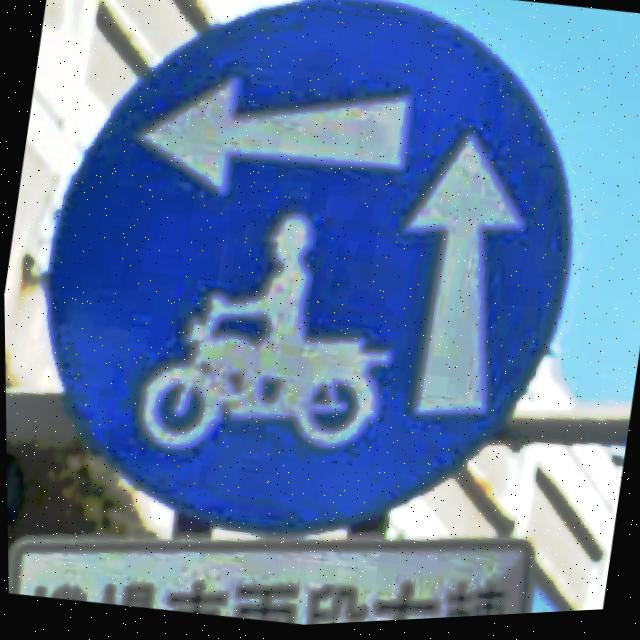twostageturn: (44, 1, 571, 538)
